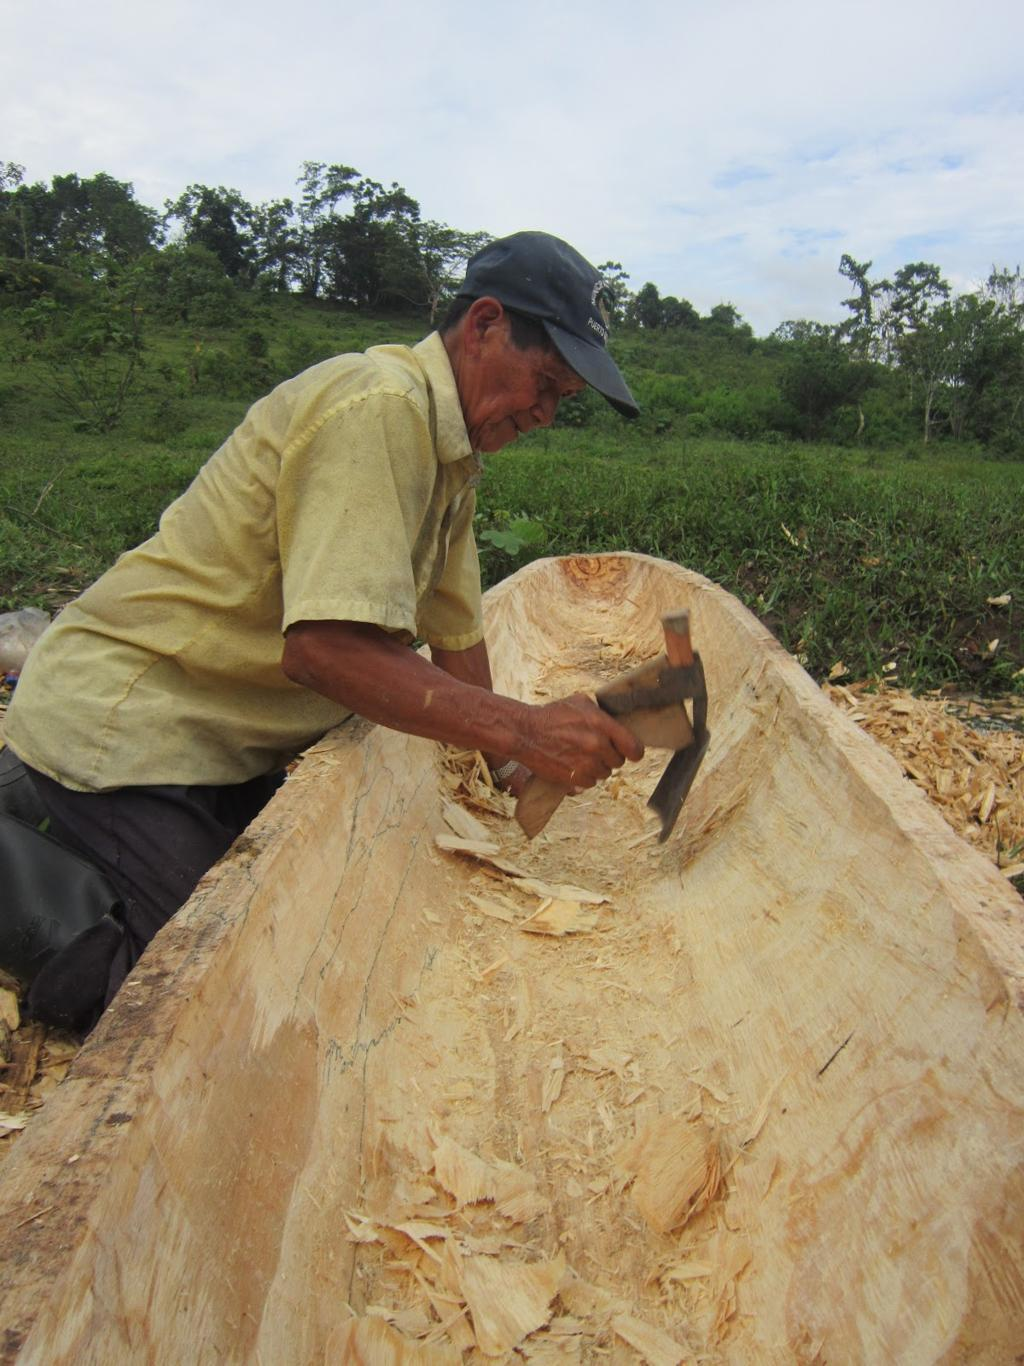face: (486, 316, 579, 465)
